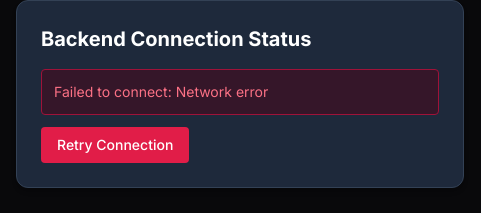
it: HealthStatus Component › renders error state and allows retry on failure
This screenshot has width=481, height=213.
Expected: the element with test id "health-error" is shown, [41, 69, 439, 163]
Expected: the text "Failed to connect: Network error" is shown, [41, 69, 439, 115]
Click the button "Retry Connection": (115, 145) [41, 127, 189, 163]
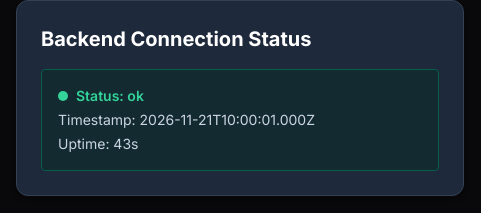
Now the element with test id "health-success" is shown, box [41, 69, 439, 171]
